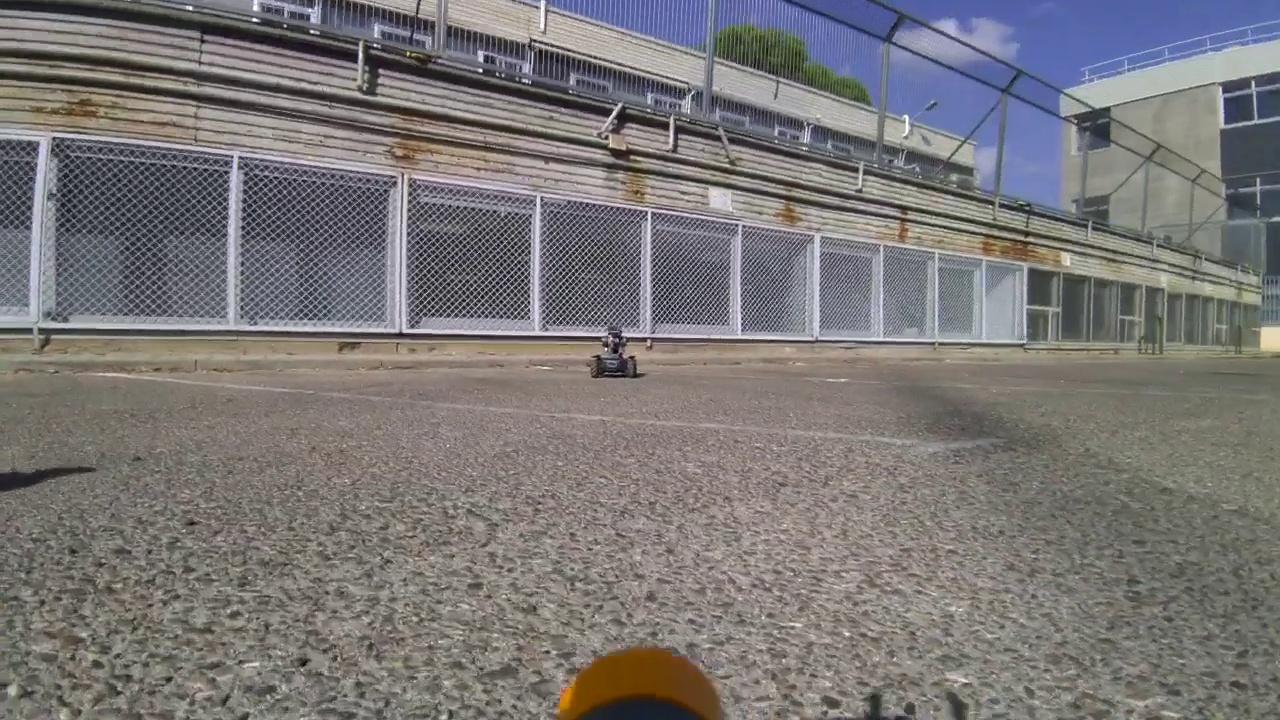robot: (582, 318, 636, 385)
